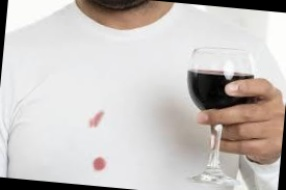wine: (86, 108, 106, 128), (89, 157, 109, 175)
